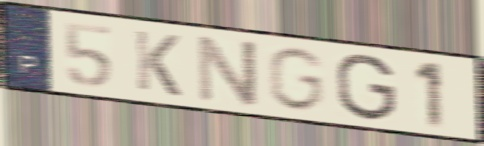1: (411, 59, 447, 131)
5: (62, 19, 113, 89)
G: (333, 52, 400, 123), (265, 45, 328, 114)
K: (132, 27, 184, 100)
N: (195, 31, 261, 109)
